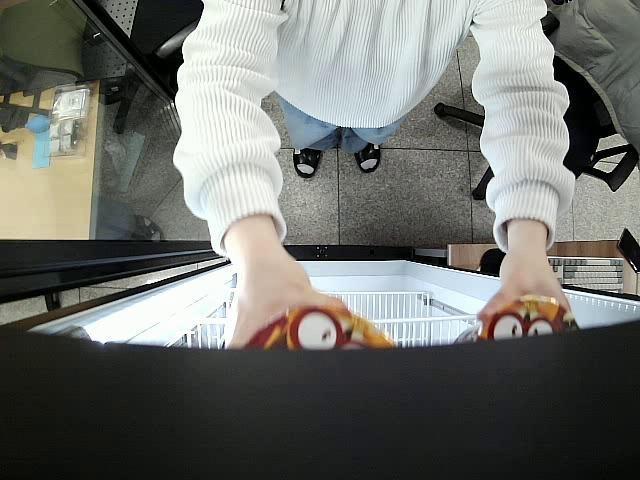05_nuguri_L: (236, 299, 392, 352), (450, 294, 584, 344)
